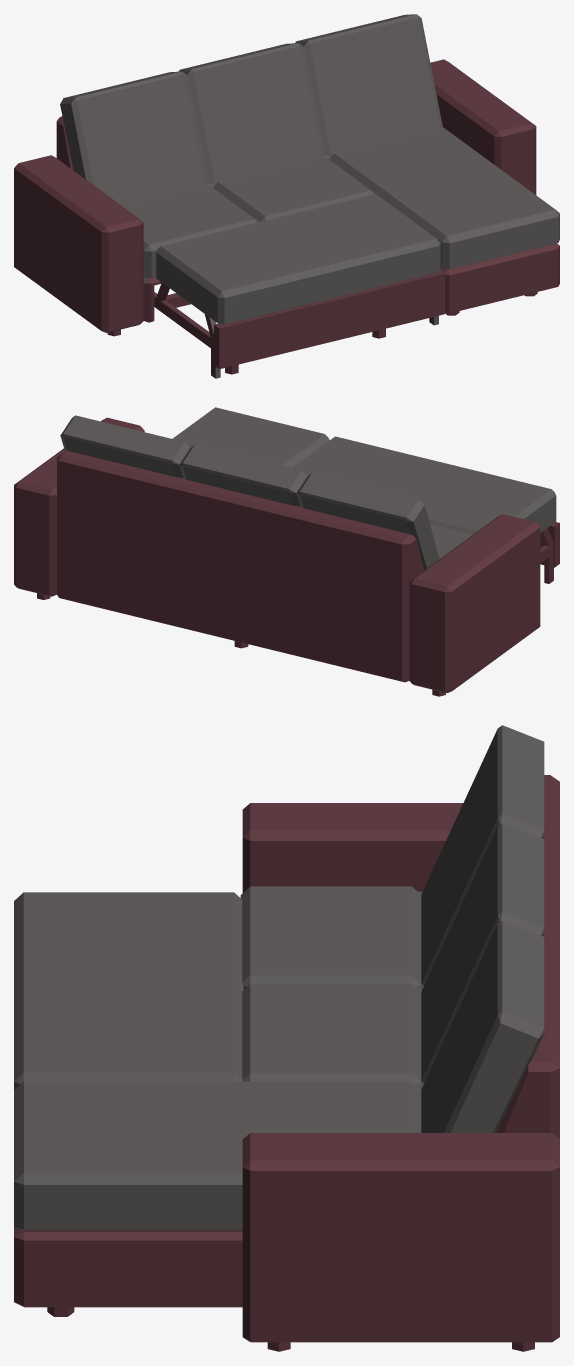
File: sofa-modern-long-sleep.fbx
3 renders of one model, top to bottom at view 1: azimuth 30°, elevation 25°; view 2: azimuth 150°, elevation 25°; view 3: azimuth 270°, elevation 25°, orthographic. The views are drawn at different scales.
Visible parts, largest first — view 1: sofa-modern-long-sleep; view 2: sofa-modern-long-sleep; view 3: sofa-modern-long-sleep.
Boxes of the visible parts, x1,y1,x2,y2 form: sofa-modern-long-sleep: (14,14,559,378); sofa-modern-long-sleep: (14,407,559,696); sofa-modern-long-sleep: (14,725,559,1351).
Size of the model in its own units: 2.58 by 1.03 by 1.63.
